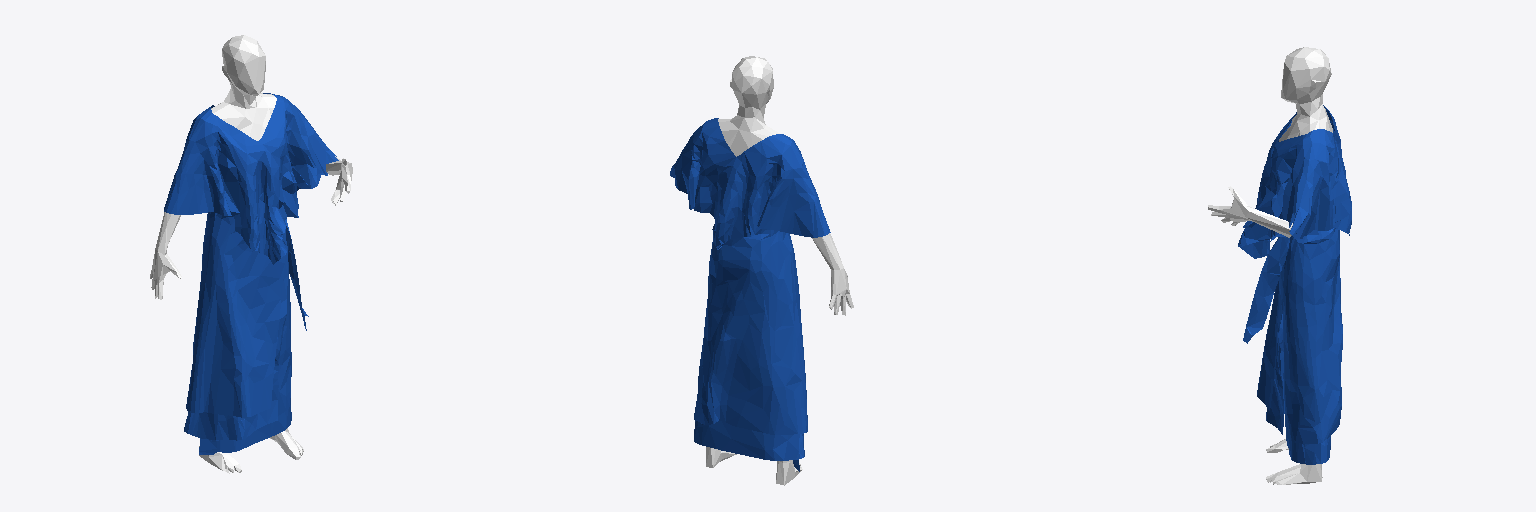
The model's file is personaB0.obj.
3 renders of one model, left to right at view 1: azimuth 30°, elevation 25°; view 2: azimuth 150°, elevation 25°; view 3: azimuth 270°, elevation 25°, orthographic.
Parts seen in each view (by area): view 1: TrajeTipico, Maniqui; view 2: TrajeTipico, Maniqui; view 3: TrajeTipico, Maniqui.
Part boxes in pixels (left/top/right/bottom): TrajeTipico: left=164, top=93, right=338, bottom=454; Maniqui: left=150, top=35, right=352, bottom=473; TrajeTipico: left=670, top=118, right=830, bottom=471; Maniqui: left=706, top=56, right=853, bottom=485; TrajeTipico: left=1238, top=105, right=1351, bottom=464; Maniqui: left=1208, top=47, right=1332, bottom=484.
Size of the model in its own units: 84.28 by 183 by 57.72.